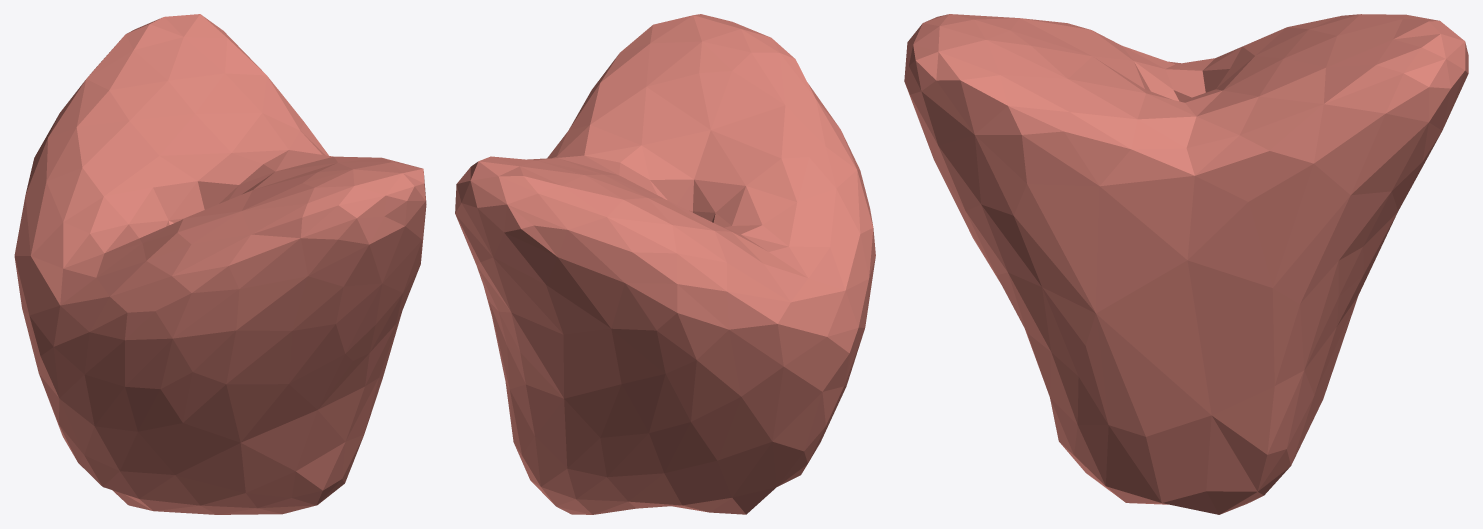
3 views of the same model, side by side, from view 1: azimuth 30°, elevation 25°; view 2: azimuth 150°, elevation 25°; view 3: azimuth 270°, elevation 25° (orthographic). The views are drawn at different scales.
Visible parts, largest first — view 1: 272.obj; view 2: 272.obj; view 3: 272.obj.
Part boxes in pixels (left/top/right/bottom): 272.obj: left=14, top=14, right=426, bottom=514; 272.obj: left=455, top=14, right=875, bottom=514; 272.obj: left=904, top=14, right=1468, bottom=514.
Bounding box in the file's own units: 620 × 761 × 835.
